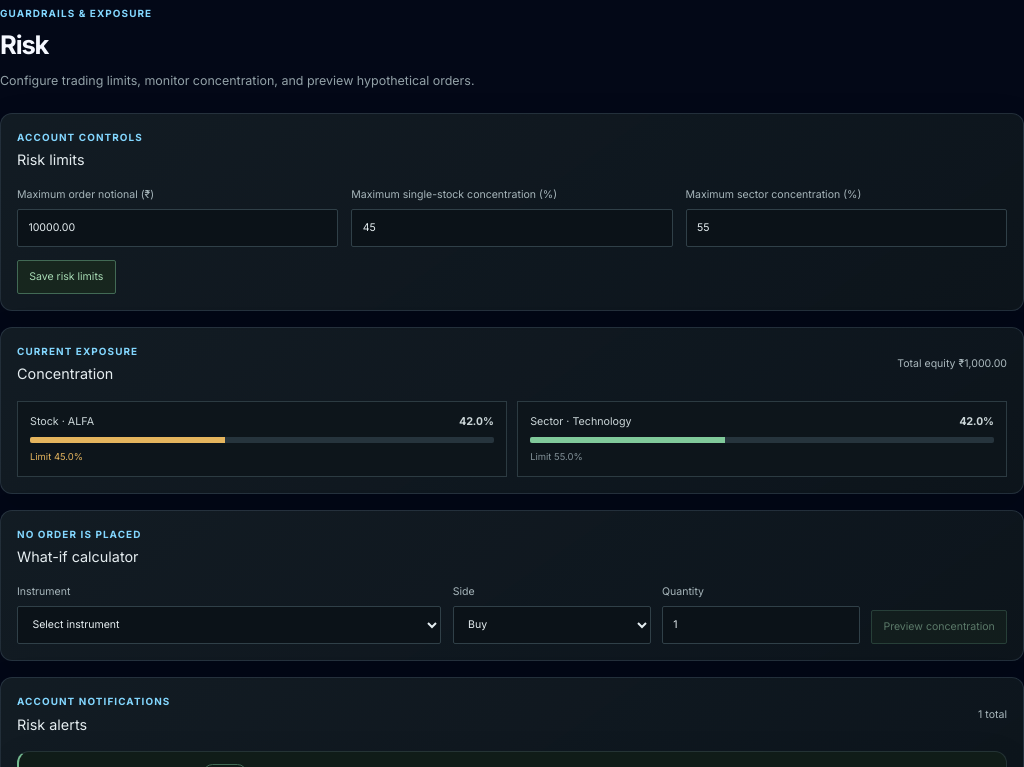
Test: risk workspace › previews a hypothetical order and clearly shows a risk rejection
The width and height of the screenshot is (1024, 767).
Step 1. Select "ALFA · Alfa Industries" in the dropdown labelled "Instrument" → (229, 625), box x1=17 y1=606 x2=442 y2=644
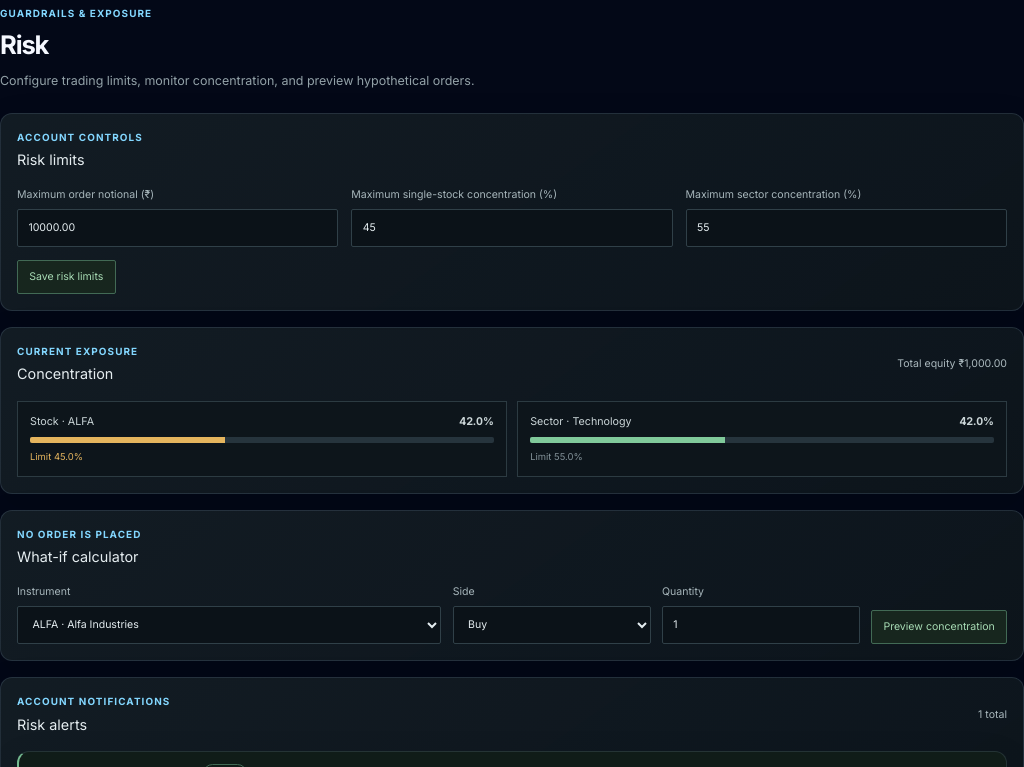
Step 2. Replace the text in the number field labelled "Quantity" with "2" → (761, 625), box x1=662 y1=606 x2=860 y2=644
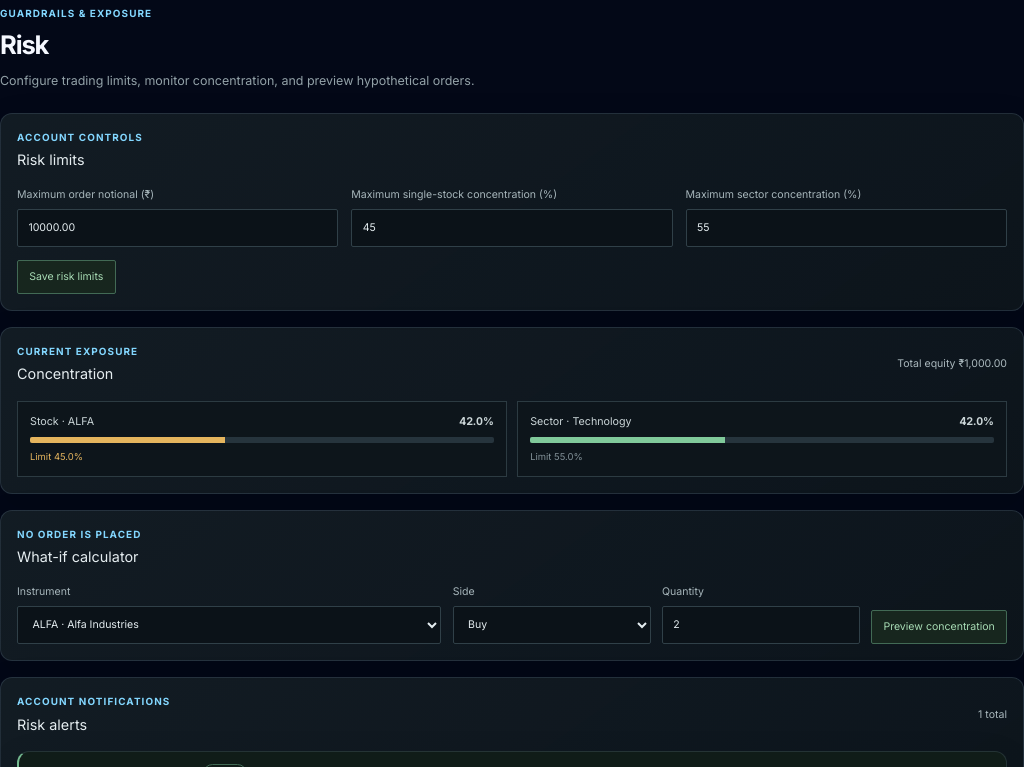
Step 3. Click the button "Preview concentration" → click(939, 627), box x1=871 y1=610 x2=1007 y2=644
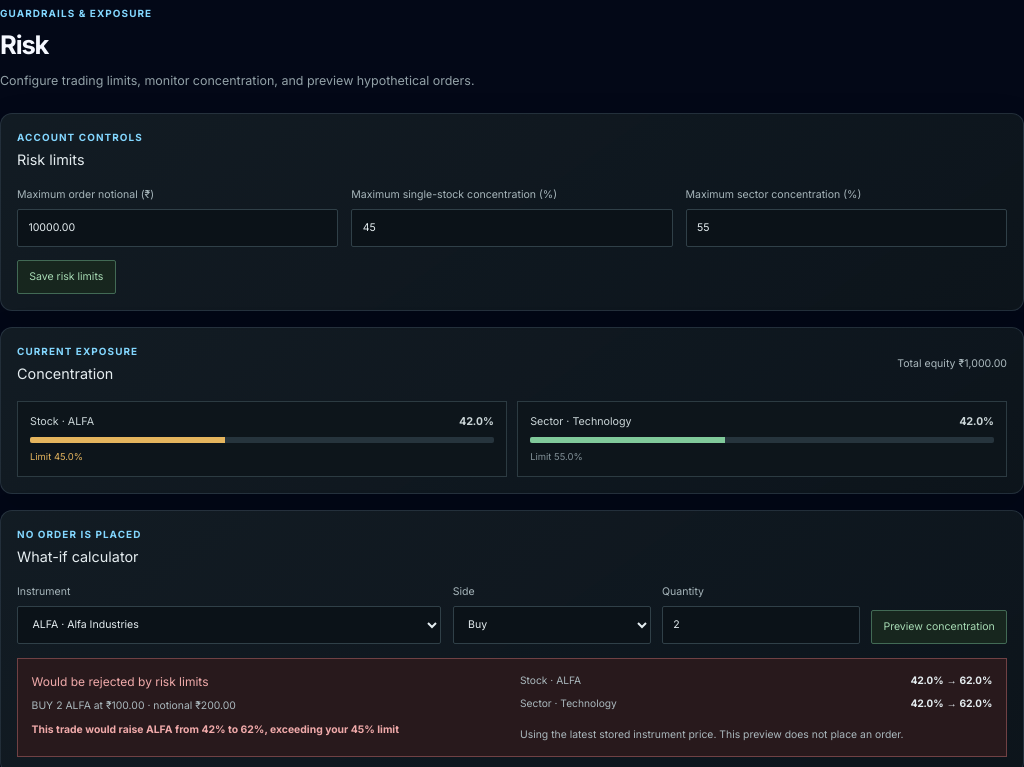
Expected: the heading "Would be rejected by risk limits" is shown, x1=32 y1=674 x2=208 y2=689
Expected: the text "exceeding your 45% limit" is shown, x1=32 y1=723 x2=399 y2=736
